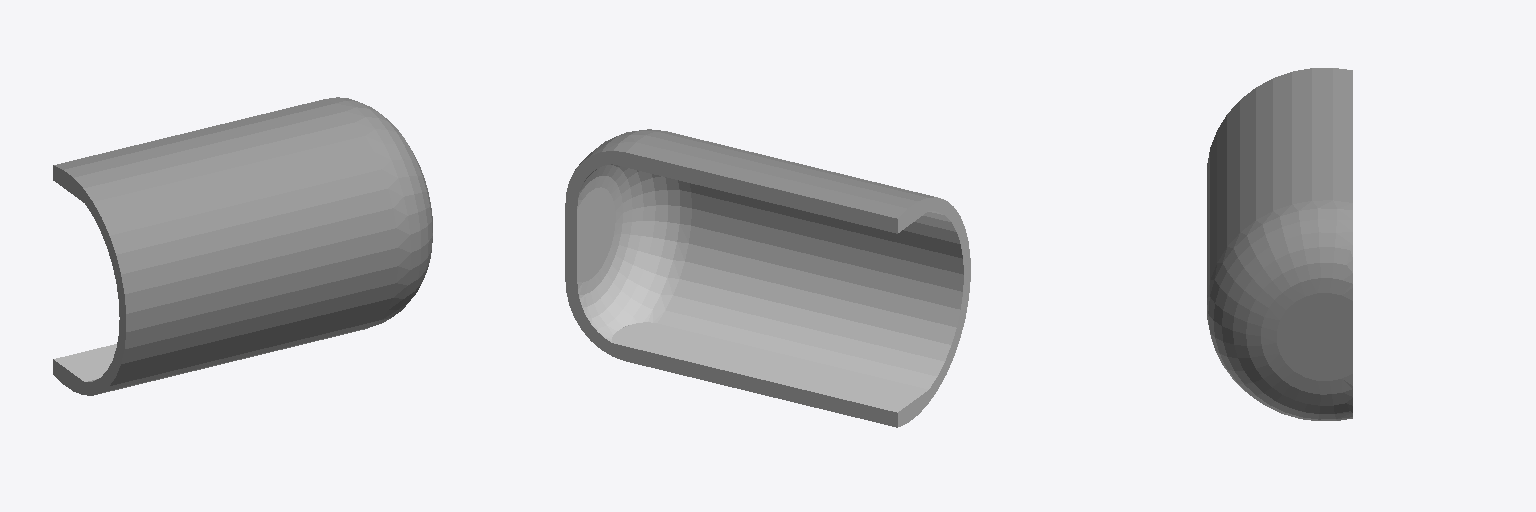
File: DeadEnd.obj
The picture shows the model from 3 angles: view 1: azimuth 30°, elevation 25°; view 2: azimuth 150°, elevation 25°; view 3: azimuth 270°, elevation 25°; orthographic projection.
Visible parts, largest first — view 1: DeadEnd; view 2: DeadEnd; view 3: DeadEnd.
Part boxes in pixels (x1,y1,x2,y2): DeadEnd: (53,97,432,395); DeadEnd: (565,129,970,427); DeadEnd: (1207,68,1352,420).
Size of the model in its own units: 27.5 by 16.96 by 10.47.